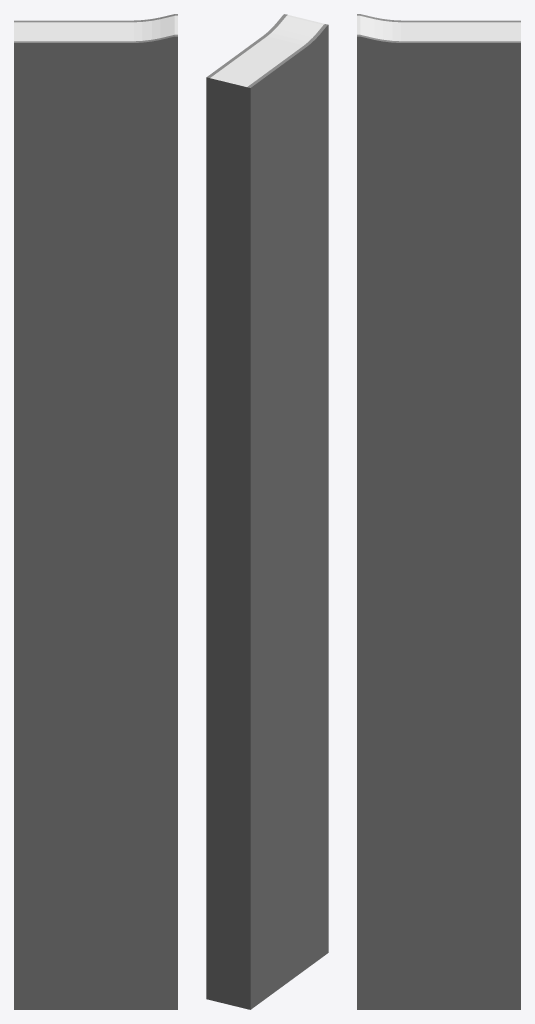
File: jumpschunk.fbx
3 renders of one model, left to right at view 1: azimuth 90°, elevation 25°; view 2: azimuth 150°, elevation 25°; view 3: azimuth 270°, elevation 25°, orthographic. The views are drawn at different scales.
Visible parts, largest first — view 1: jumpschunk; view 2: jumpschunk; view 3: jumpschunk.
Part boxes in pixels (x1,y1,x2,y2): jumpschunk: (14, 14, 177, 1009); jumpschunk: (206, 14, 328, 1009); jumpschunk: (357, 14, 520, 1009).
Size of the model in its own units: 25 by 76.66 by 503.
